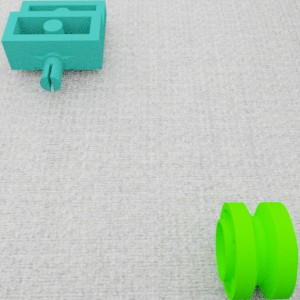lego: (0, 0, 106, 91), (215, 201, 298, 299)
